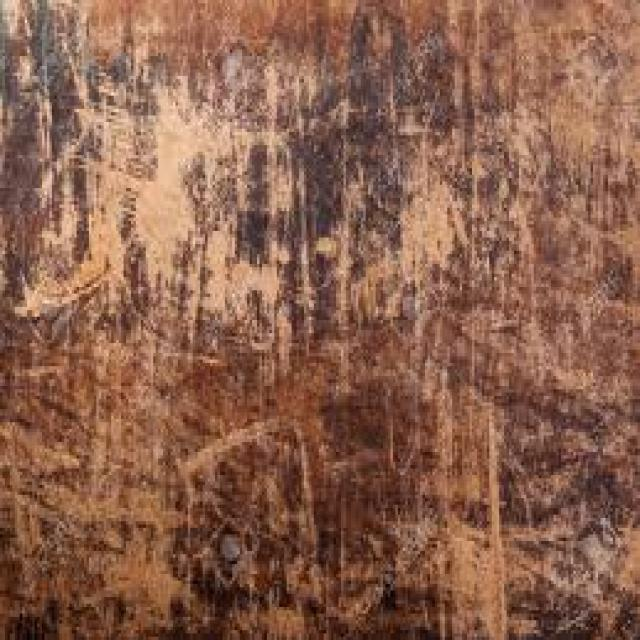Rotten surface: (81, 88, 287, 326), (34, 414, 208, 610), (410, 378, 537, 618)
